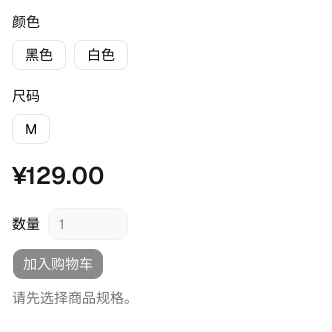
Test: 「加入购物车」按钮 › 数量输入超过上限时夹到 99
Click the button "黑色".
click(39, 55)  # box [12,40,66,70]
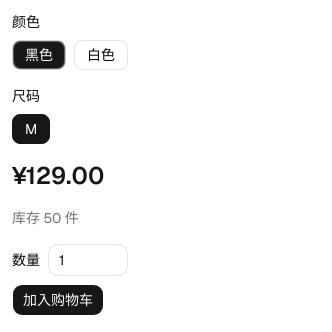
Click the button "M".
click(31, 129)  # box [12,114,50,144]
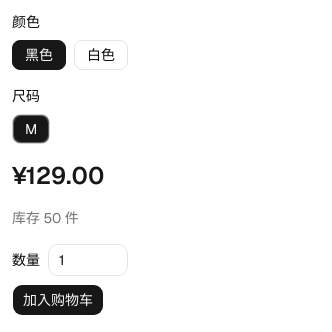
Replace the text in the number field named "购买数量" with "150" at (88,260), box [48,244,128,276]
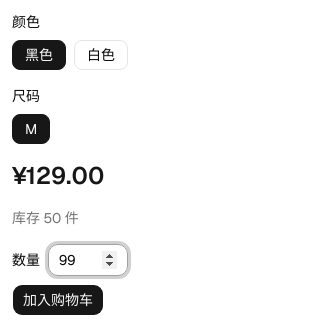
expect the number field named "购买数量" holds "99": met, box [48,244,128,276]
